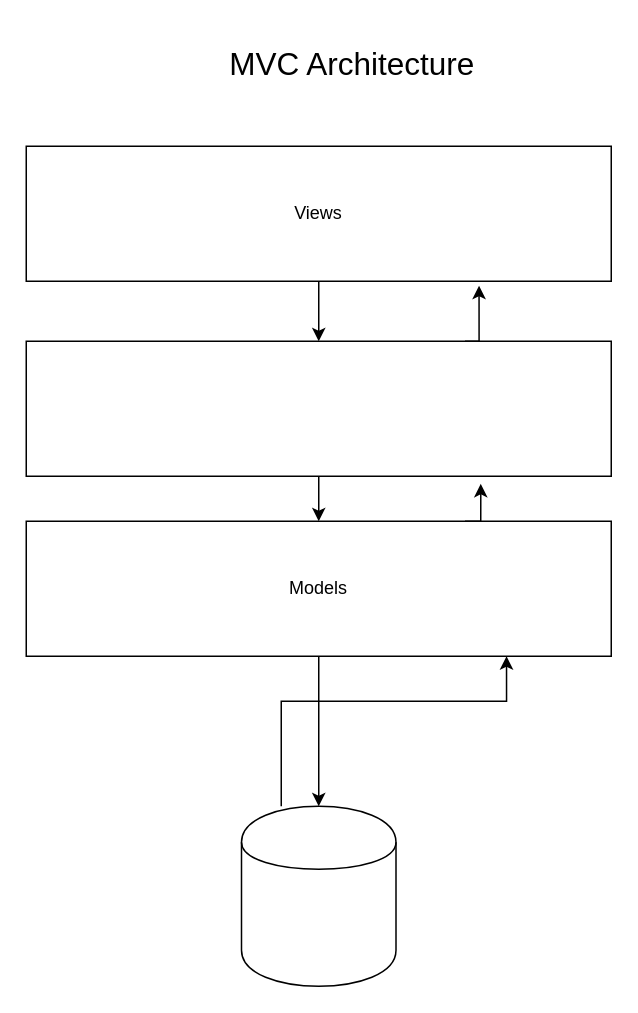
The diagram is 638 pixels wide and 1013 high, and some of its shapes have lost their labels. The shapes that lost their labels are listed below. From the top down, each one's centre as x and y in pixels, then its label:
At pixel 318 408: "Controllers".
At pixel 318 895: "Database".
